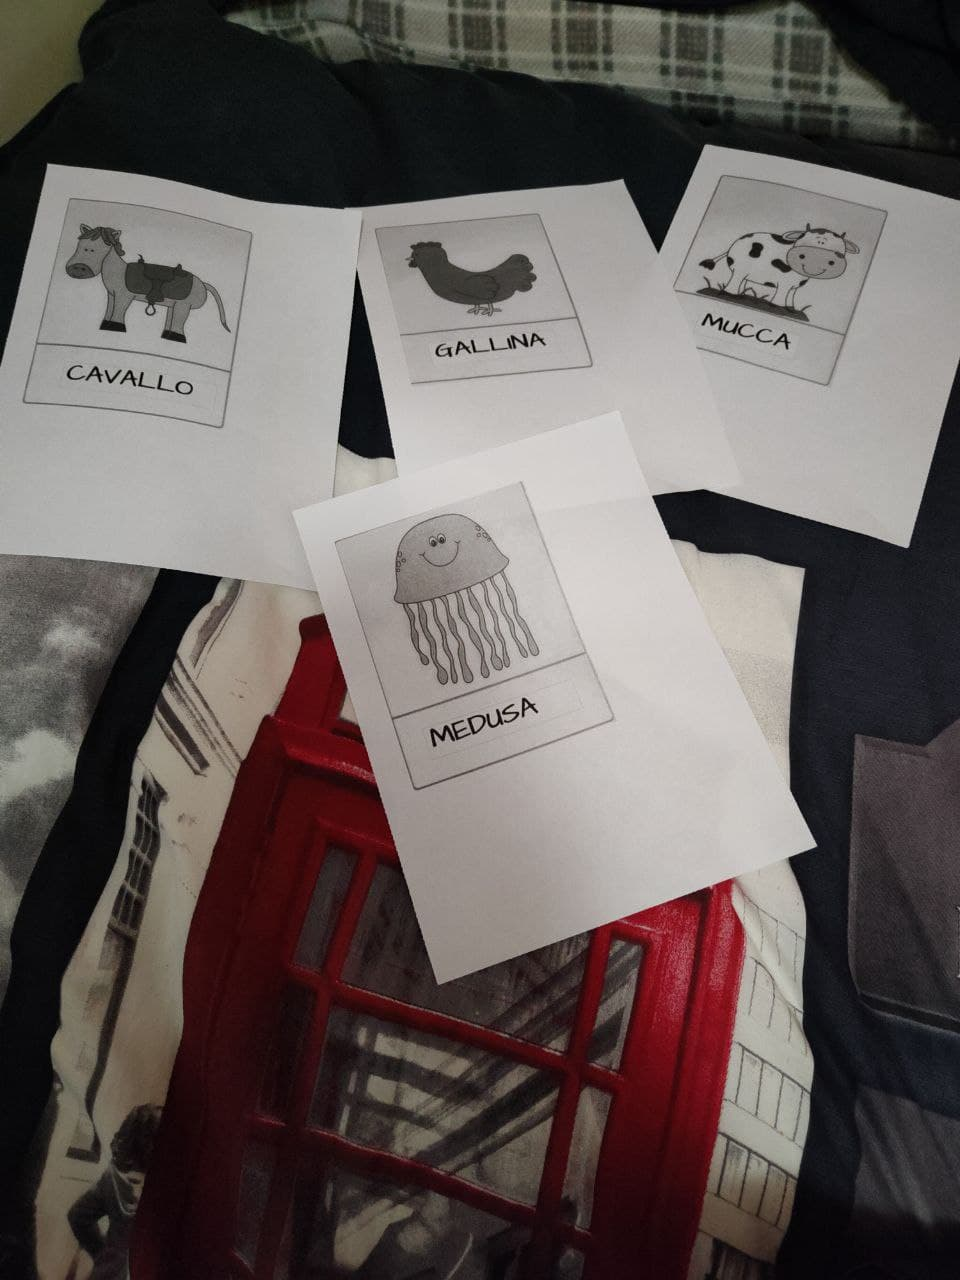cavallo: (53, 209, 252, 431)
gallina: (377, 219, 576, 381)
medusa: (349, 509, 599, 779)
mucca: (696, 180, 867, 380)
